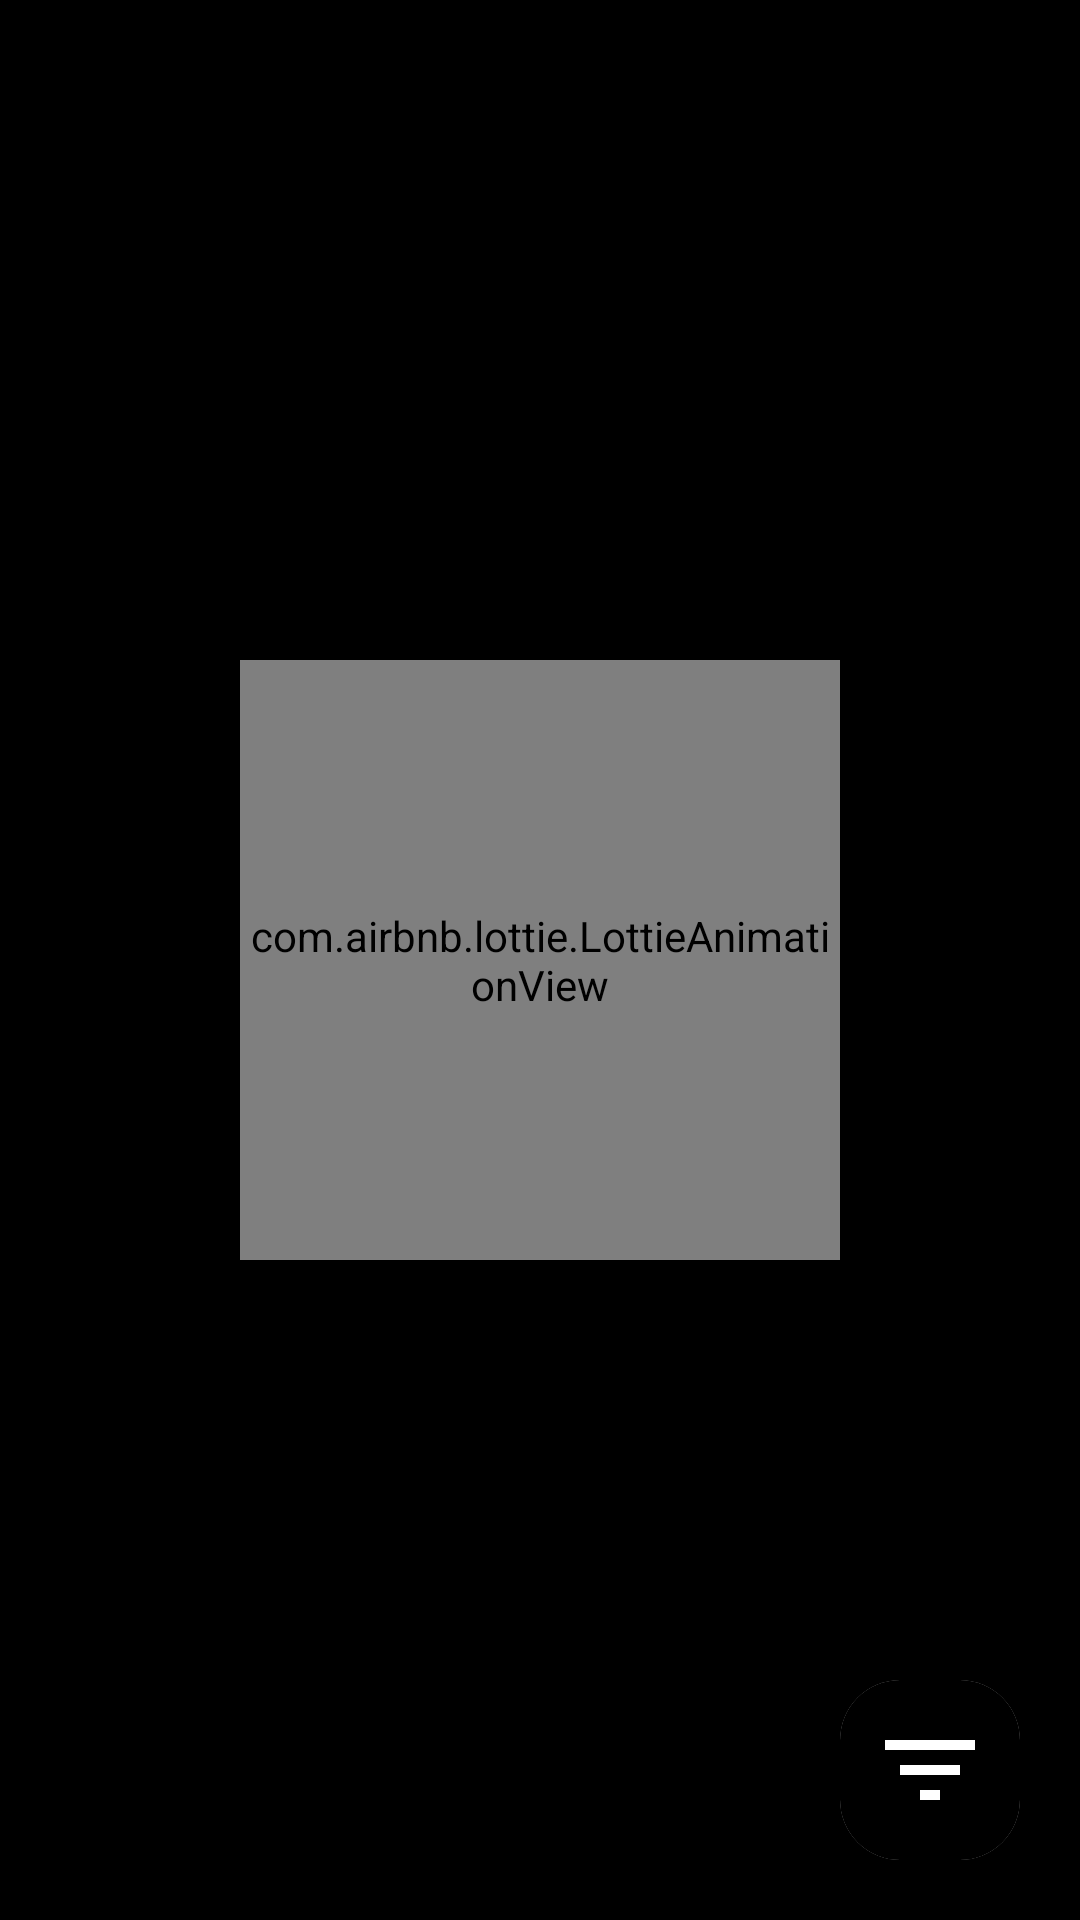

Icon bounding boxes for this 1080x1920 phone screenshot, format (x1, y1, x2, y2):
filter list: (885, 1740, 975, 1800)
